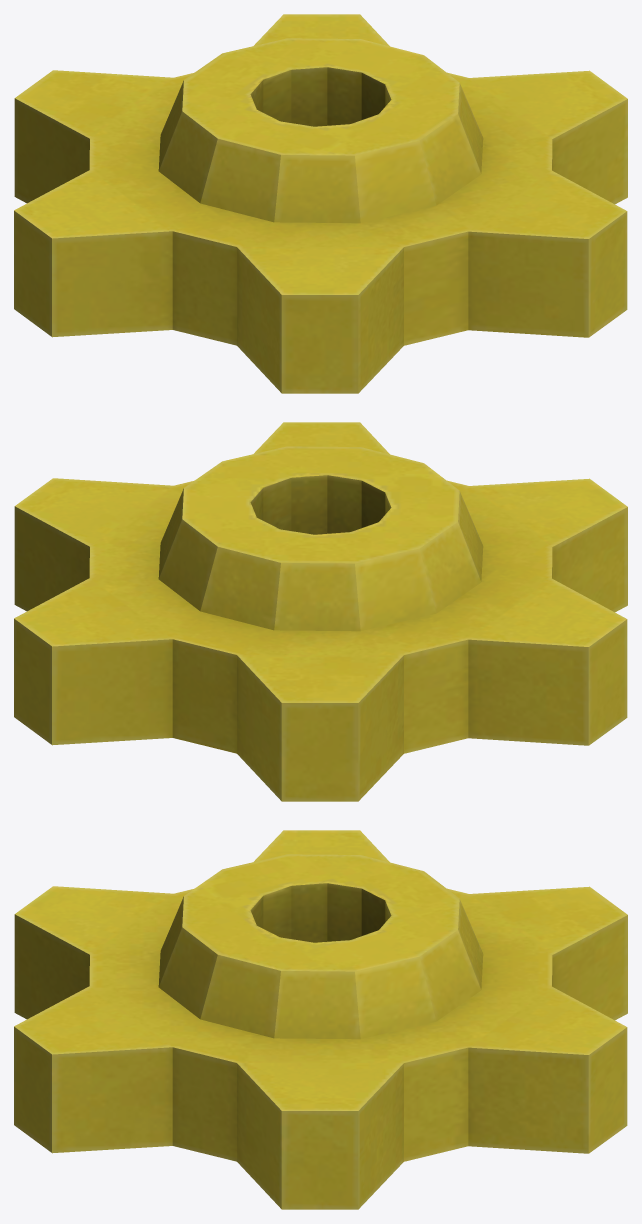
Rendered from GoldGear_Polished.glb.
3 renders of one model, top to bottom at view 1: azimuth 30°, elevation 25°; view 2: azimuth 150°, elevation 25°; view 3: azimuth 270°, elevation 25°, orthographic.
Visible parts, largest first — view 1: GoldGear_Polished; view 2: GoldGear_Polished; view 3: GoldGear_Polished.
Part boxes in pixels (x1,y1,x2,y2): GoldGear_Polished: (14,14,627,393); GoldGear_Polished: (14,422,627,801); GoldGear_Polished: (14,830,627,1209).
Bounding box in the file's own units: 0.4552 × 0.1182 × 0.4208.
1 material, 1 textured.
